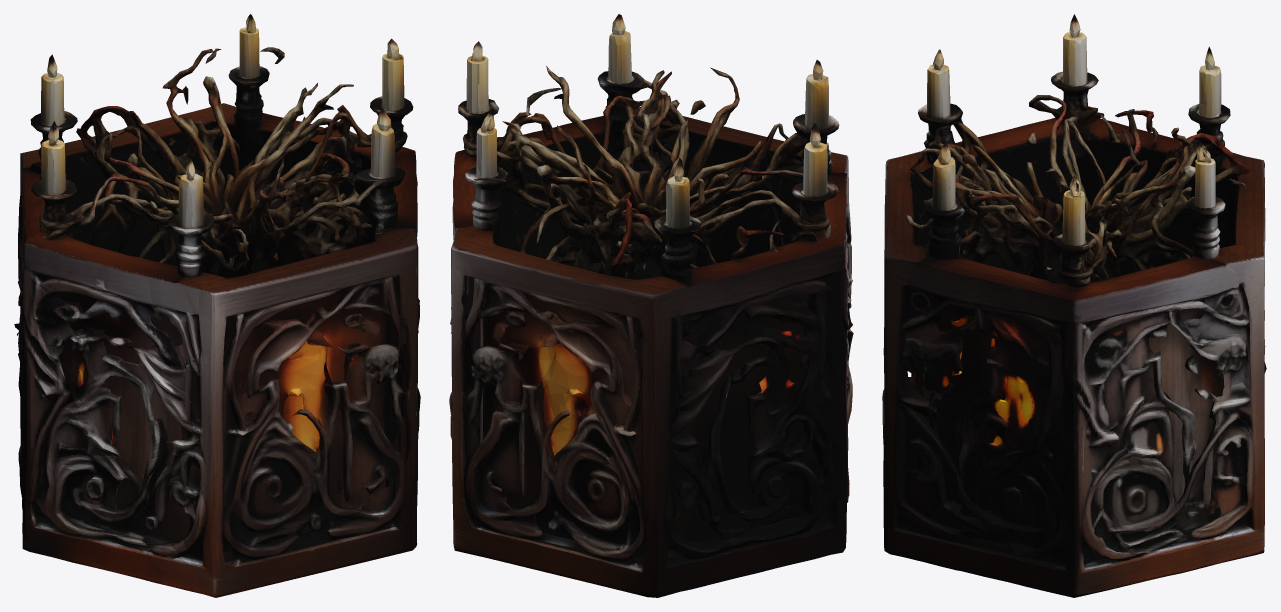
File: wooden-planter-box-horror.jpeg.glb
3 views of the same model, side by side, from view 1: azimuth 30°, elevation 25°; view 2: azimuth 150°, elevation 25°; view 3: azimuth 270°, elevation 25° (orthographic). The views are drawn at different scales.
Visible parts, largest first — view 1: world; view 2: world; view 3: world.
Boxes of the visible parts, box(x1,y1,x2,y2) form: world: box(14, 14, 420, 597); world: box(449, 14, 853, 597); world: box(882, 14, 1266, 597).
Size of the model in its own units: 0.9709 by 0.9997 by 0.8434.
Materials: 1 (1 with a texture image).
